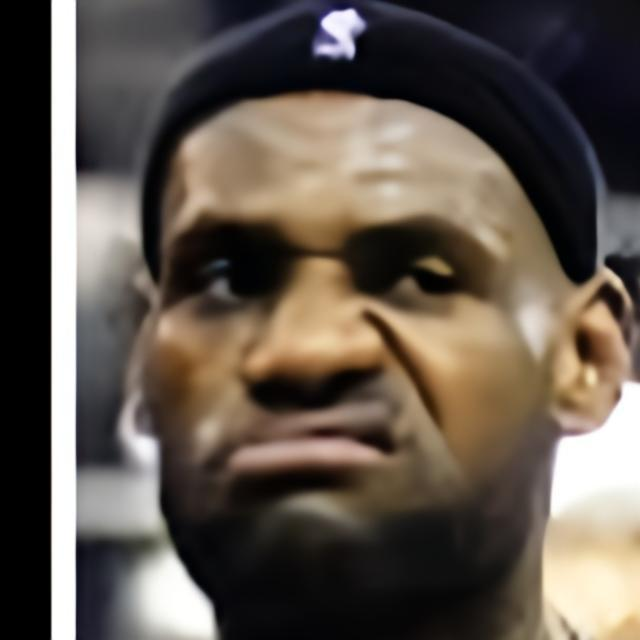disgust: (141, 85, 554, 605)
